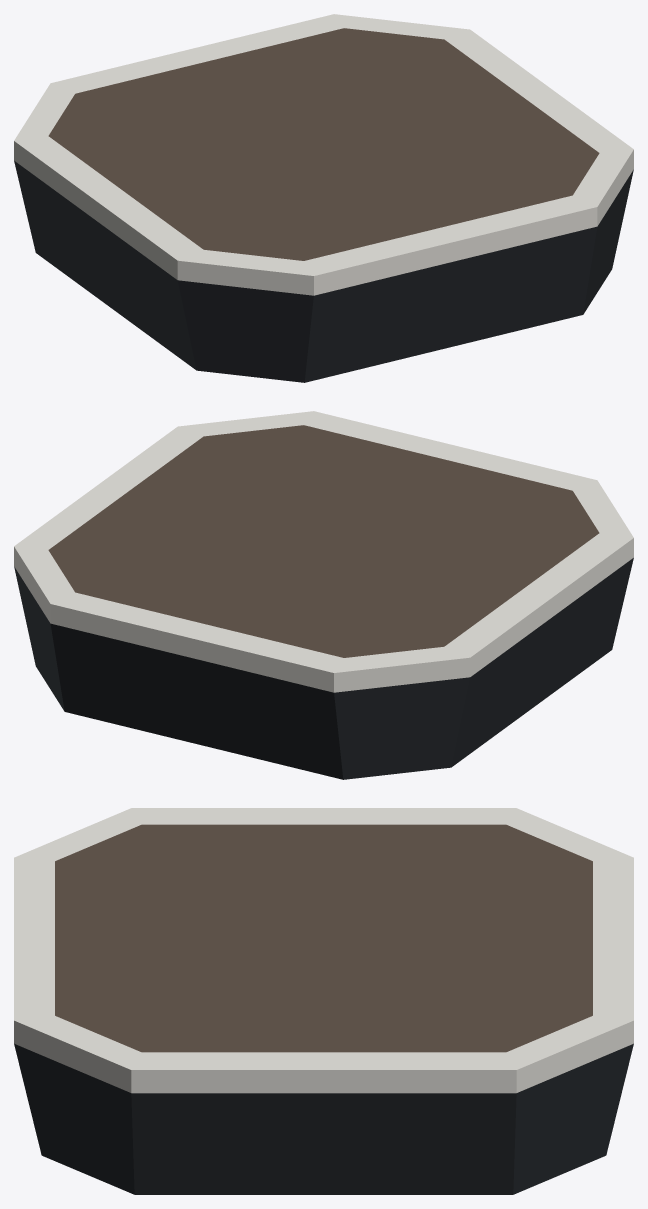
Rendered from PROP_PLANTER_03.glb.
3 views of the same model, one above another, from view 1: azimuth 30°, elevation 25°; view 2: azimuth 150°, elevation 25°; view 3: azimuth 270°, elevation 25° (orthographic). The views are drawn at different scales.
Visible parts, largest first — view 1: CIVRUM_GAME_PROP_PLANTER_03; view 2: CIVRUM_GAME_PROP_PLANTER_03; view 3: CIVRUM_GAME_PROP_PLANTER_03.
Boxes of the visible parts, x1,y1,x2,y2 form: CIVRUM_GAME_PROP_PLANTER_03: (14,14,633,382); CIVRUM_GAME_PROP_PLANTER_03: (14,411,633,779); CIVRUM_GAME_PROP_PLANTER_03: (14,808,633,1194).
Size of the model in its own units: 2.8 by 0.683 by 2.8.
